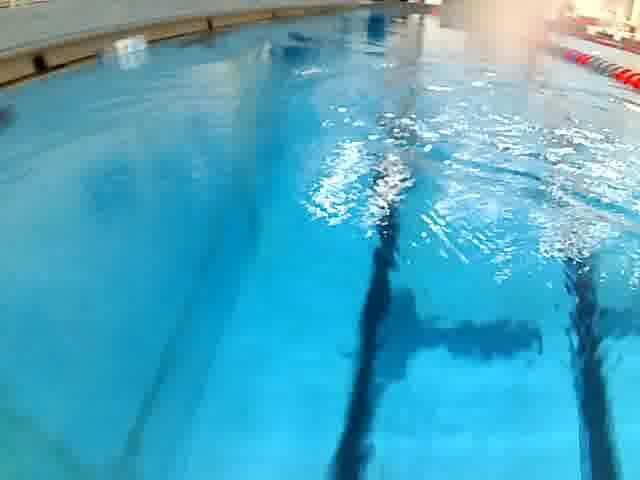Bottle: (86, 31, 156, 73)
